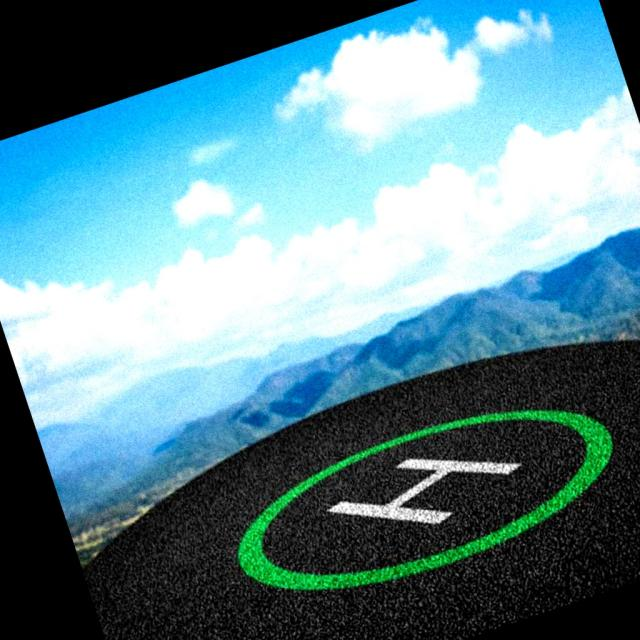helipad: (232, 404, 617, 594)
